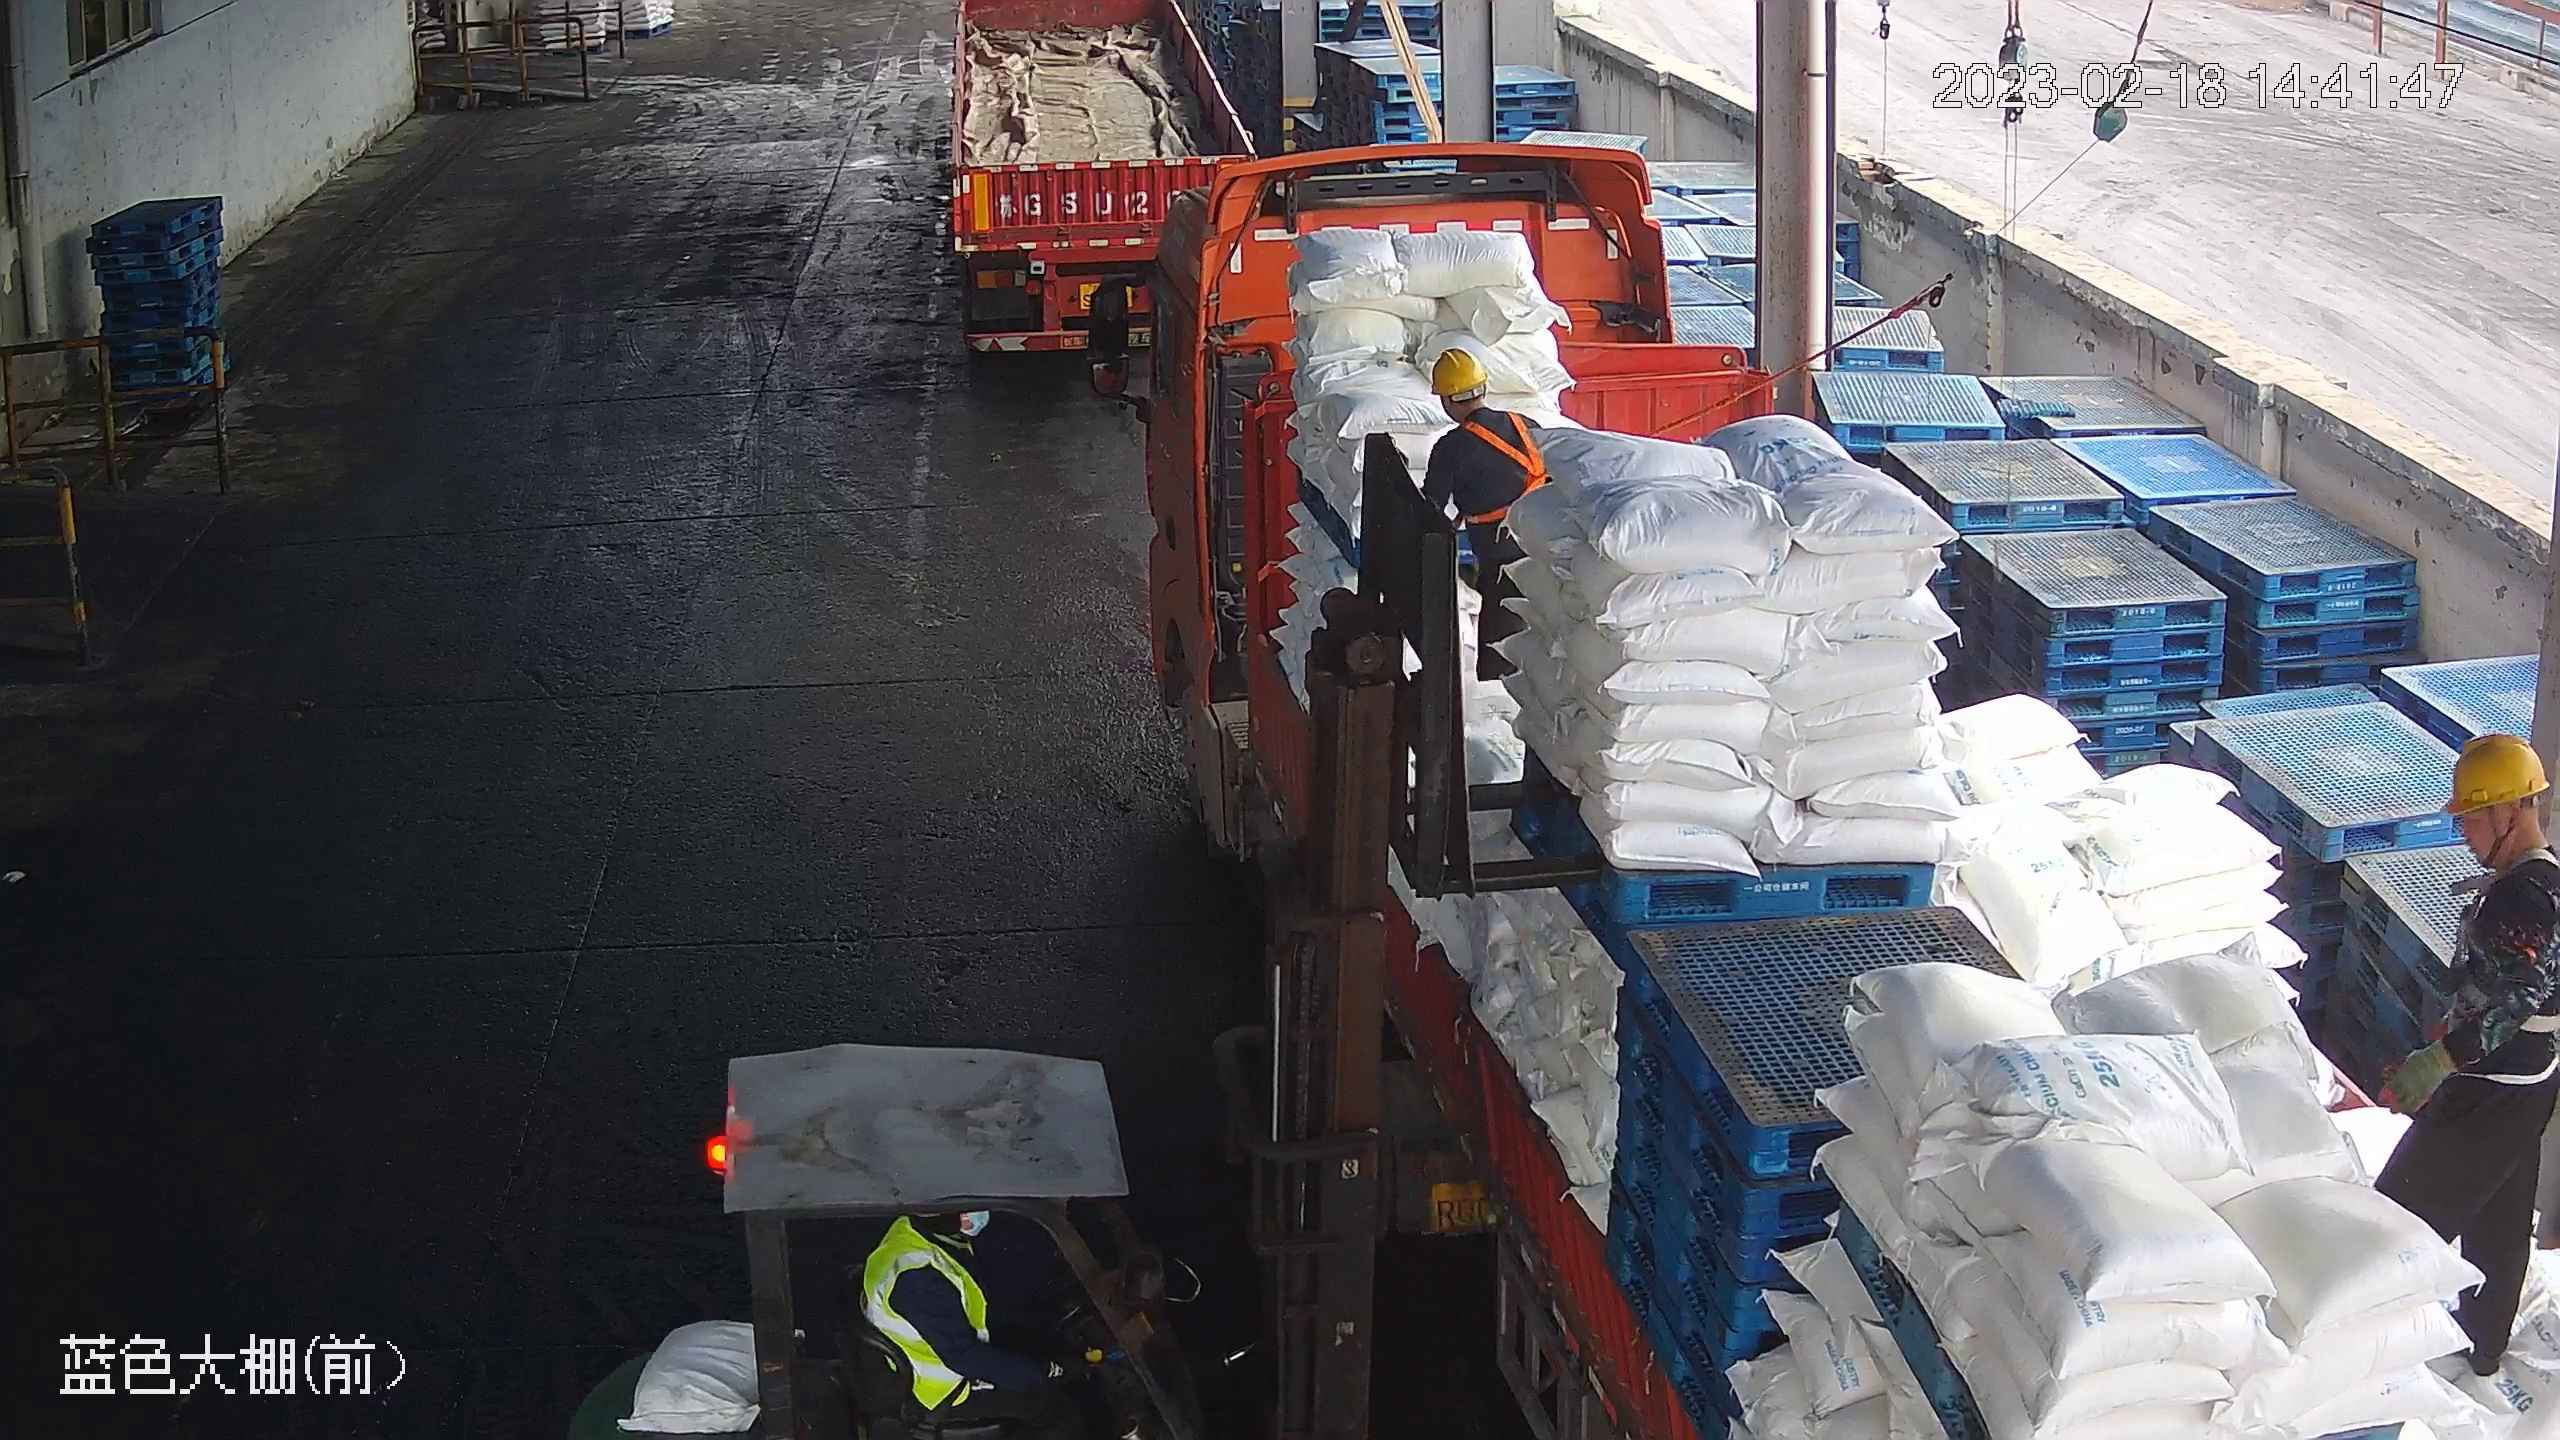belt: (2488, 845, 2560, 1039), (1450, 412, 1545, 526)
head: (2432, 729, 2560, 941), (1422, 345, 1536, 464)
helmet: (2435, 731, 2555, 816), (1425, 342, 1491, 393)
people: (2369, 732, 2560, 1401), (863, 1204, 1107, 1438), (1408, 343, 1549, 687)
truck: (1083, 137, 2557, 1440), (940, 5, 1257, 356)
